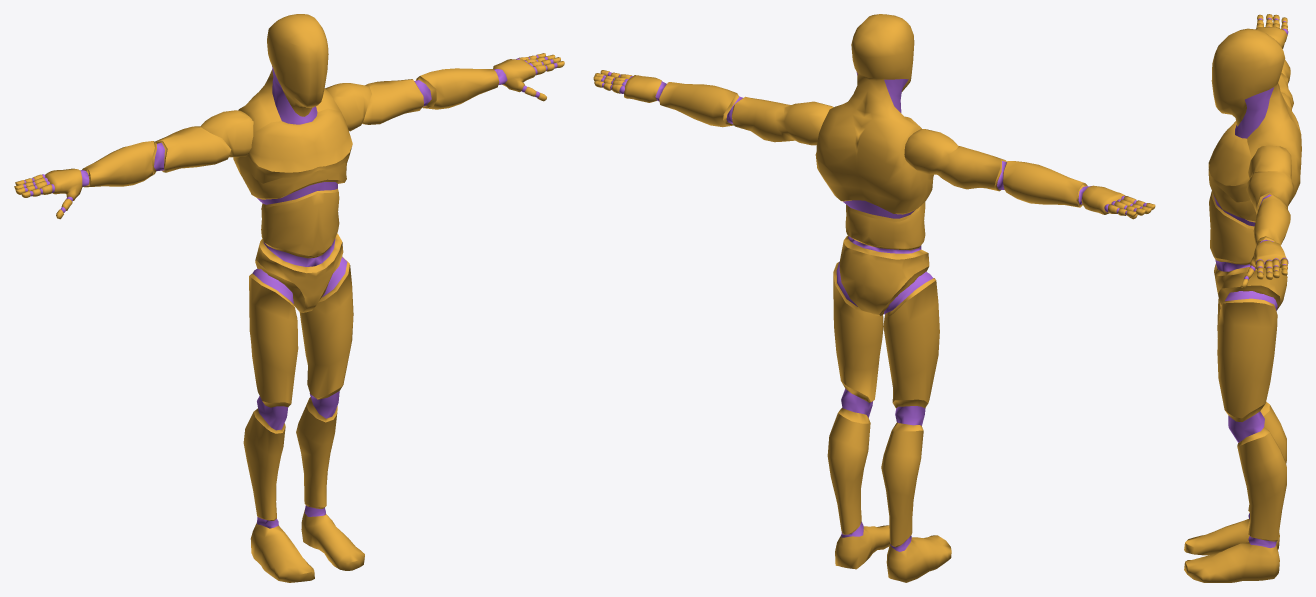
The model's file is human-mannequin.glb.
3 views of the same model, side by side, from view 1: azimuth 30°, elevation 25°; view 2: azimuth 150°, elevation 25°; view 3: azimuth 270°, elevation 25° (orthographic). The views are drawn at different scales.
Visible parts, largest first — view 1: Mannequin; view 2: Mannequin; view 3: Mannequin.
Boxes of the visible parts, box(x1,y1,x2,y2) form: Mannequin: box(14, 14, 564, 582); Mannequin: box(593, 14, 1155, 582); Mannequin: box(1184, 14, 1301, 582).
Bounding box in the file's own units: 1.94 × 1.83 × 0.3696.
